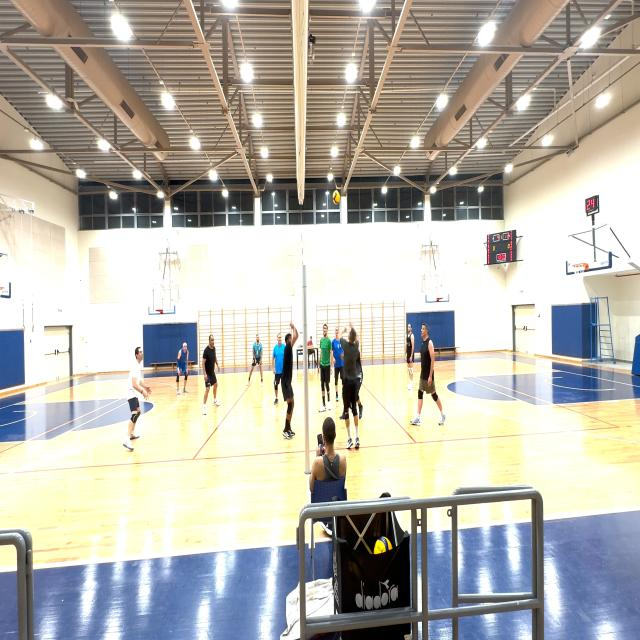volleyball: (373, 536, 392, 555), (332, 190, 340, 204)
